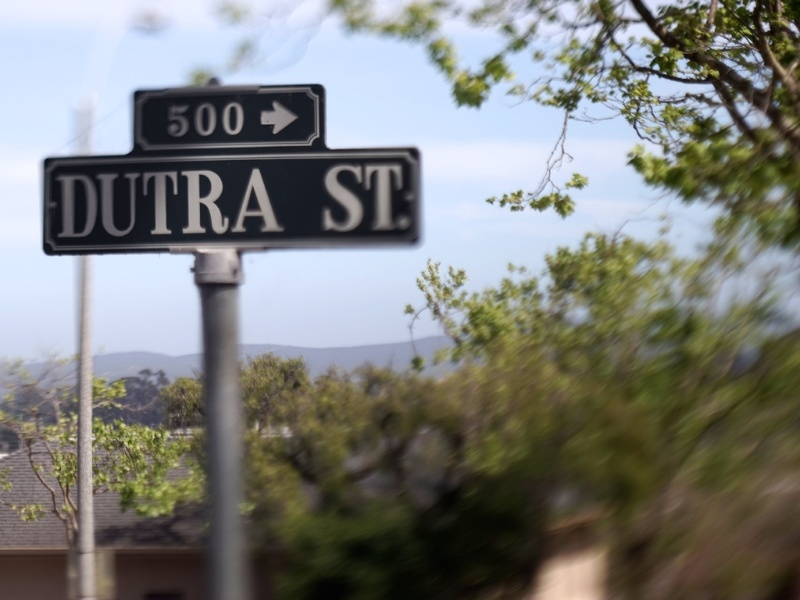right_direction: (258, 99, 299, 135)
